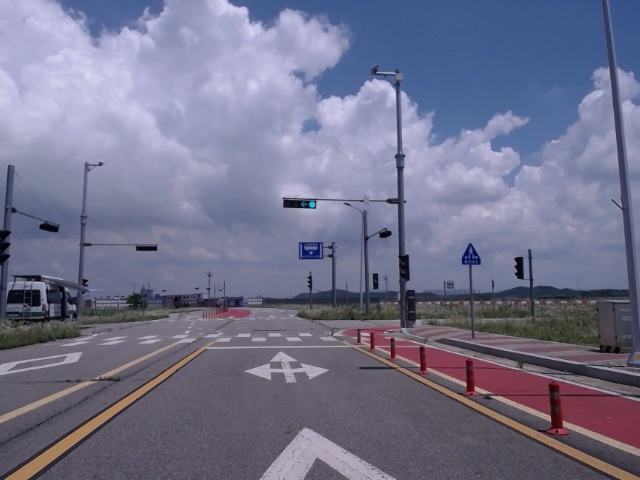all_green_4: (281, 196, 317, 209)
